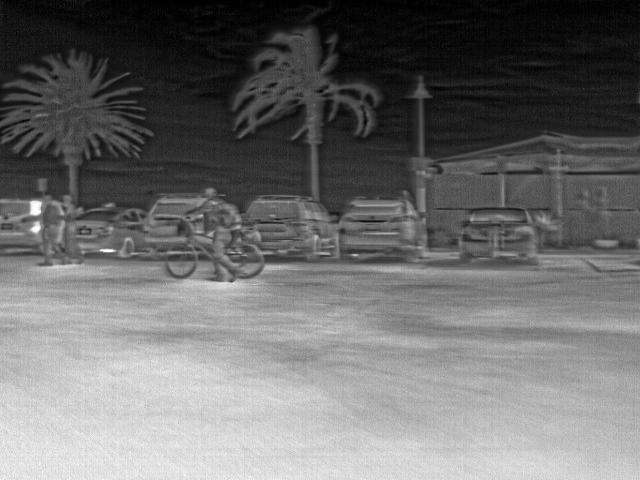car: (241, 192, 337, 262), (339, 197, 429, 261), (457, 206, 537, 266), (80, 203, 144, 259), (141, 190, 200, 241), (0, 195, 37, 257)
person: (201, 186, 229, 283), (37, 192, 58, 267), (61, 194, 80, 264)
